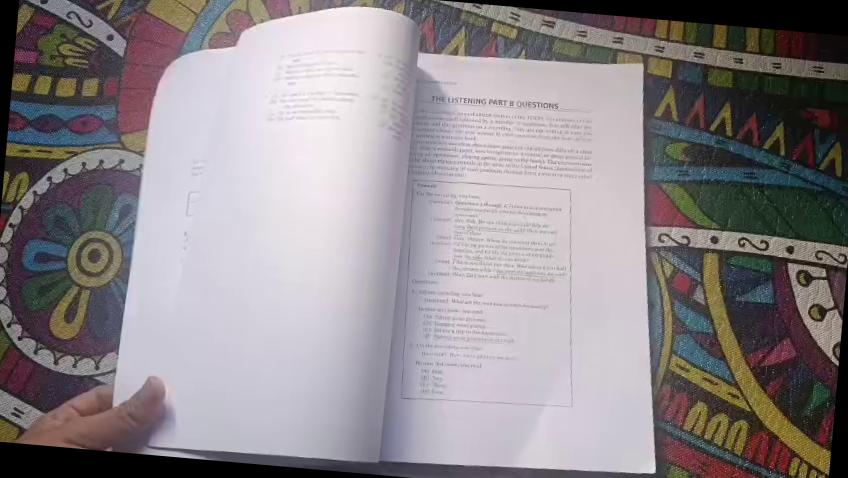Kertas: (375, 53, 640, 468), (164, 48, 406, 465)
